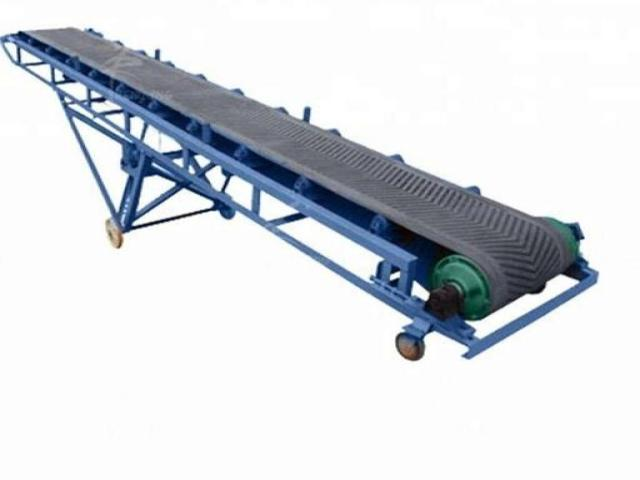conveyor: (0, 23, 598, 362)
